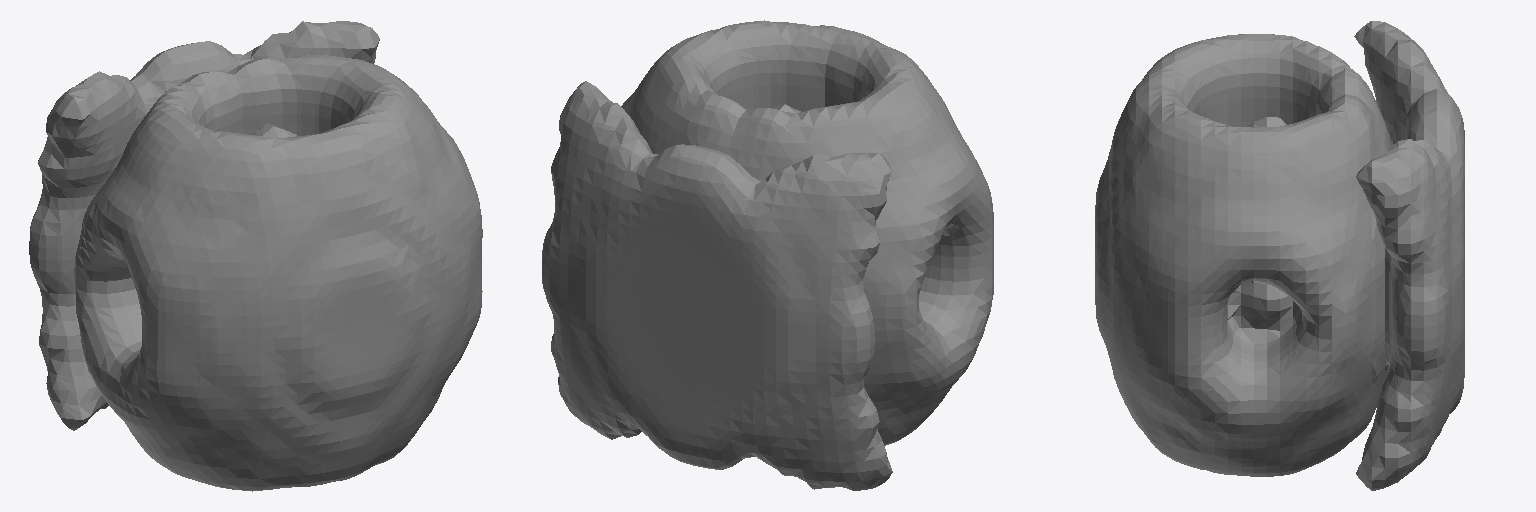
URDF robot description (cube.urdf):
<?xml version="0.0" ?> 
<robot name="cube.urdf"> 
<link name="legobrick"> 
<contact> 
<lateral_friction value="5.0"/> 
<rolling_friction value="0.0"/> 
<contact_cfm value="0.0"/> 
<contact_erp value="1.0"/> 
</contact> 
<inertial> 
<origin rpy="0 0 0" xyz="0.0 0.0 0.0"/> 
<mass value=".01"/> 
<inertia ixx="1" ixy="0" ixz="0" iyy="1" iyz="0" izz="1"/> 
</inertial> 
<visual> 
<origin rpy="1.570796 0 0" xyz="-0.025955188357201158 0.022201201731783044 -0.025913818515995356"/> 
<geometry> 
<mesh filename="K14_0.obj" scale="0.0006763585296301137 0.0006763585296301137 0.0006763585296301137"/> 
</geometry> 
<material name="yellow"> 
<color rgba="0.6 0.6 0.6 1"/> 
</material> 
</visual> 
<collision> 
<origin rpy="1.570796 0 0" xyz="-0.025955188357201158 0.022201201731783044 -0.025913818515995356"/> 
<geometry> 
<mesh filename="K14_0.obj" scale="0.0006763585296301137 0.0006763585296301137 0.0006763585296301137"/> 
</geometry> 
</collision> 
</link> 
</robot>

--- What the picture shows (computed from the rendered views, not written in the file) ---
Views: 3 orthographic renders of the robot side by side, from view 1: azimuth 30°, elevation 25°; view 2: azimuth 150°, elevation 25°; view 3: azimuth 270°, elevation 25°.
Model cube.urdf with 1 links and 0 joints (none), rooted at legobrick, posed all joints at 0.
Links seen in each view (by area): view 1: legobrick; view 2: legobrick; view 3: legobrick.
Link boxes in pixels (left/top/right/bottom): legobrick: left=29, top=21, right=482, bottom=491; legobrick: left=542, top=20, right=993, bottom=490; legobrick: left=1095, top=21, right=1464, bottom=490.
Bounding box of the posed robot: 0.0564 × 0.0541 × 0.056 m (x, y, z).
Meshes: 1 distinct files referenced, 1 mesh visuals loaded (1 OBJ).
